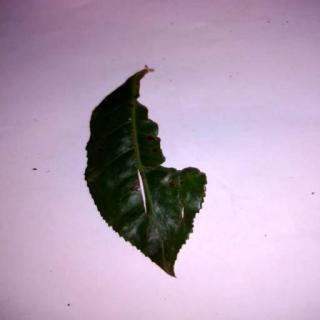Bird Eye Spot: (85, 65, 210, 279)
